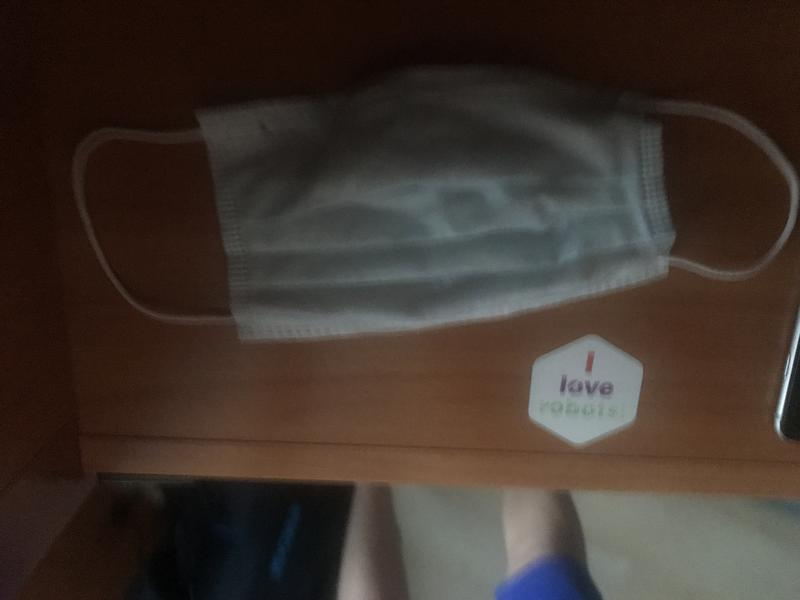medical_mask: (72, 68, 798, 322)
